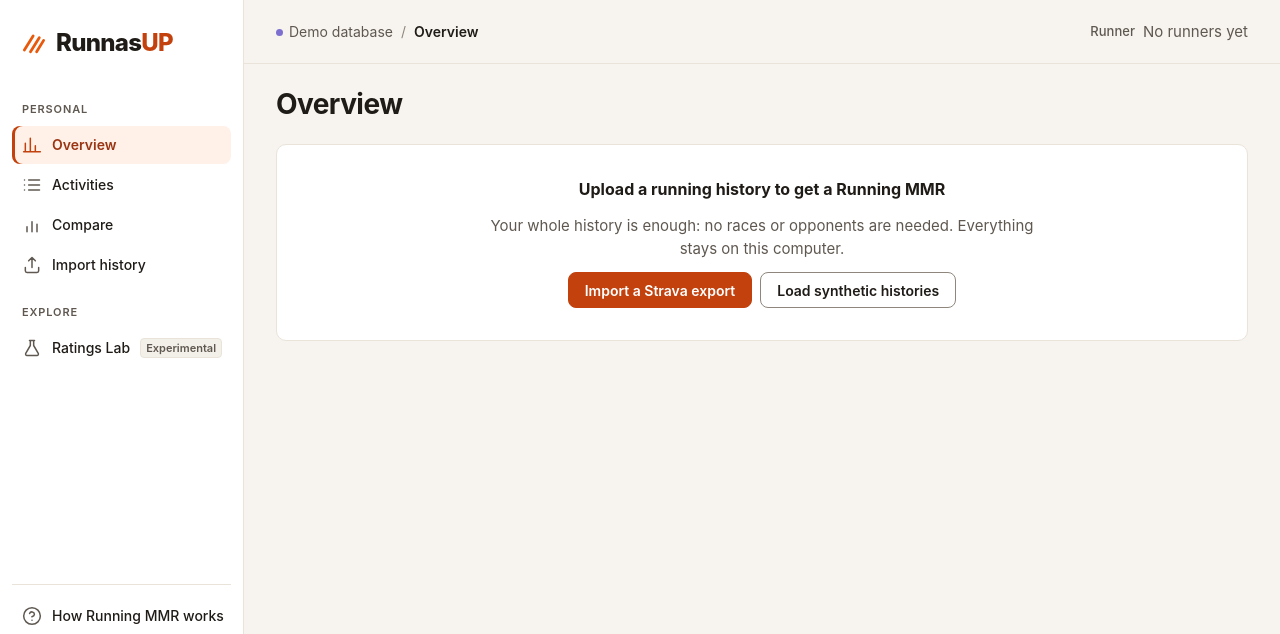
Test: Running MMR › first-time demo user can load the synthetic histories
Click the button "Load synthetic histories" at [858, 290], box x1=760 y1=272 x2=956 y2=308
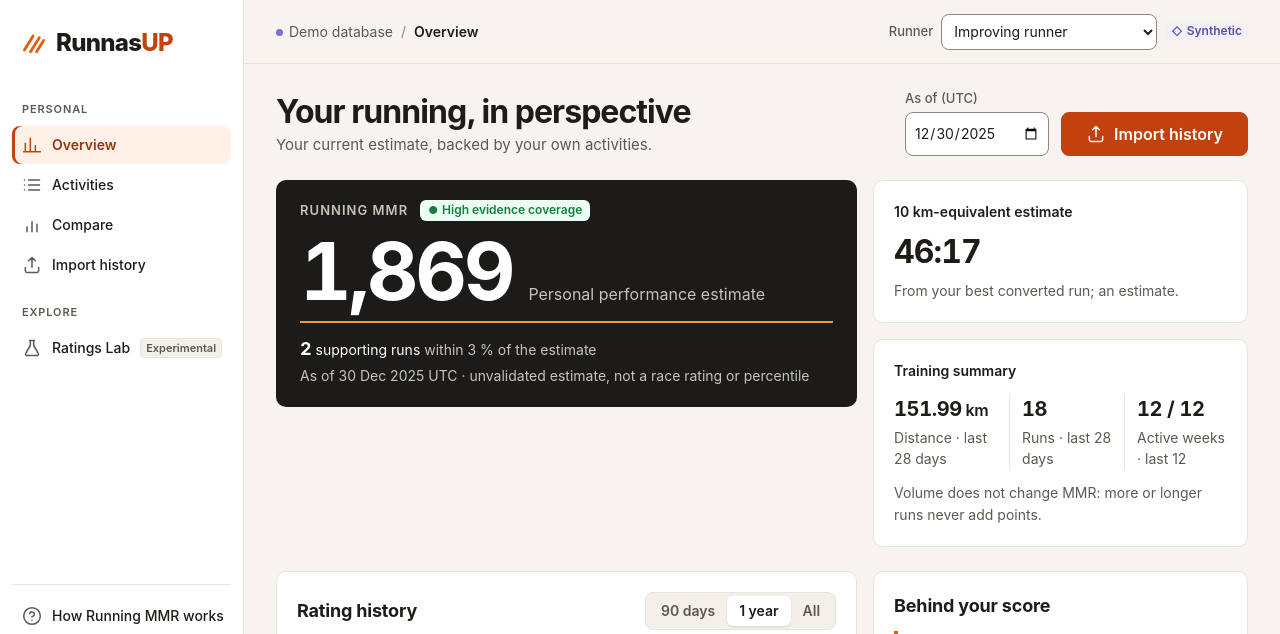
expect the heading "Running MMR ● High evidence coverage" is shown: met, box x1=300 y1=200 x2=590 y2=221
